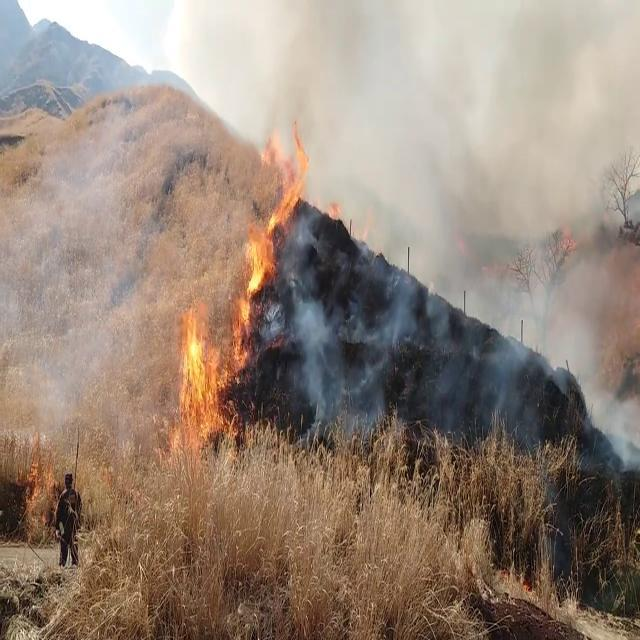Fire: (170, 299, 228, 446), (262, 112, 310, 260), (231, 210, 273, 374), (23, 453, 58, 528)
Smoke: (208, 0, 640, 451), (0, 90, 147, 462)
